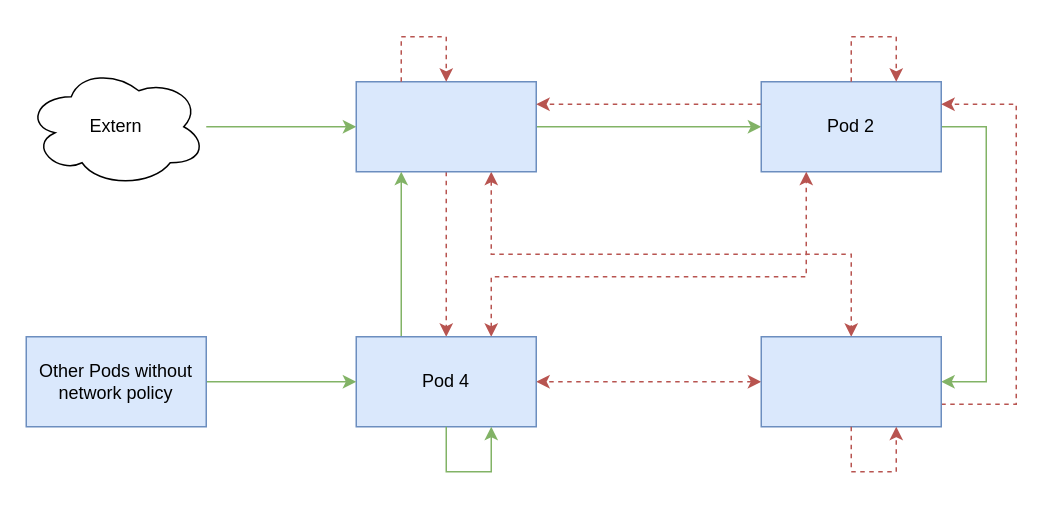
The diagram is 1055 pixels wide and 510 high, and some of its shapes have lost their labels. Each missing label, with the centre of its shape:
"Pod 1" belongs at (x=445, y=126).
"Pod 3" belongs at (x=850, y=381).
